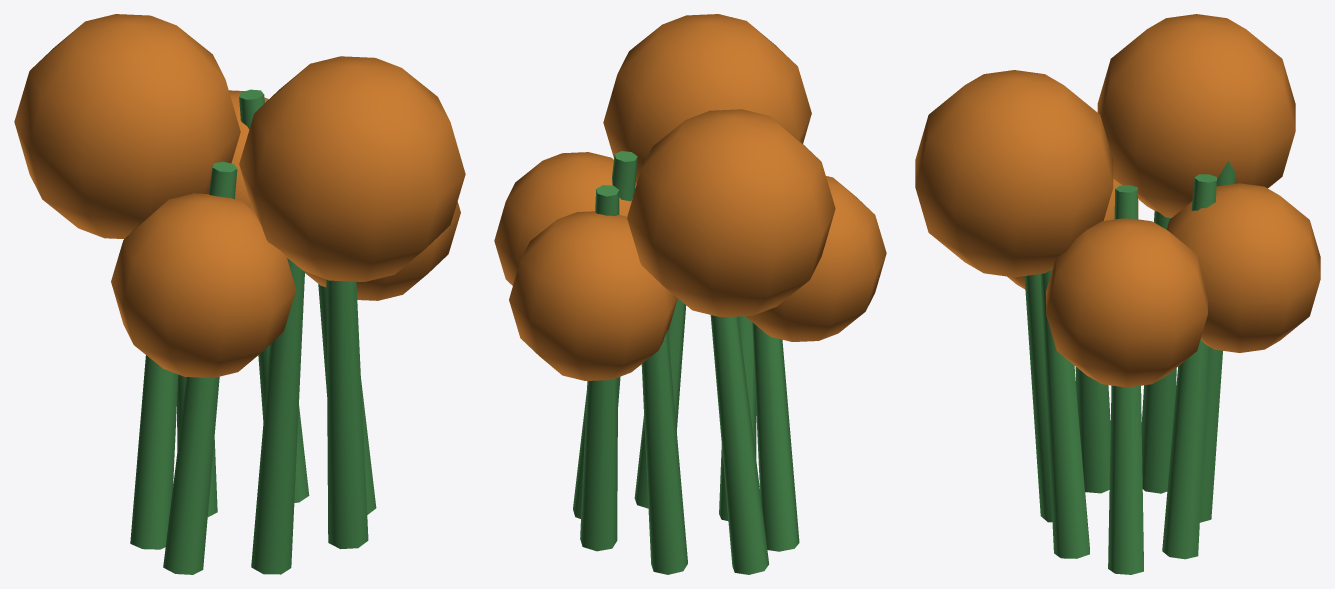
File: crop_carrot_mature.glb
3 views of the same model, side by side, from view 1: azimuth 30°, elevation 25°; view 2: azimuth 150°, elevation 25°; view 3: azimuth 270°, elevation 25° (orthographic). The views are drawn at different scales.
Visible parts, largest first — view 1: produce_1, produce_3, produce_2, stem_2, stem_1, stem_3, stem_4, produce_0, stem_6, stem_0, produce_4, stem_5; view 2: produce_3, produce_4, produce_1, produce_2, stem_4, produce_0, stem_5, stem_3, stem_6, stem_1, stem_0, stem_2; view 3: produce_1, produce_3, produce_0, produce_4, stem_6, stem_1, stem_0, stem_4, stem_2, stem_3, stem_5.
Boxes of the visible parts, <box> form: produce_1: <box>239,56,465,281</box>; produce_3: <box>14,14,240,238</box>; produce_2: <box>111,193,296,378</box>; stem_2: <box>251,258,304,574</box>; stem_1: <box>326,279,368,549</box>; stem_3: <box>163,161,237,574</box>; stem_4: <box>130,355,178,549</box>; produce_0: <box>305,201,460,300</box>; stem_6: <box>239,89,309,502</box>; stem_0: <box>318,284,376,514</box>; produce_4: <box>229,90,268,208</box>; stem_5: <box>177,374,217,516</box>; produce_3: <box>627,109,835,317</box>; produce_4: <box>509,211,677,380</box>; produce_1: <box>603,14,811,183</box>; produce_2: <box>745,176,886,341</box>; stem_4: <box>710,315,768,574</box>; produce_0: <box>494,152,636,285</box>; stem_5: <box>641,329,687,574</box>; stem_3: <box>752,322,799,551</box>; stem_6: <box>580,185,619,551</box>; stem_1: <box>634,298,686,508</box>; stem_0: <box>573,151,637,518</box>; stem_2: <box>719,316,756,520</box>; produce_1: <box>915,70,1113,277</box>; produce_3: <box>1097,14,1295,217</box>; produce_0: <box>1046,218,1207,387</box>; produce_4: <box>1166,183,1320,352</box>; stem_6: <box>1162,174,1216,559</box>; stem_1: <box>1040,269,1089,558</box>; stem_0: <box>1108,185,1143,574</box>; stem_4: <box>1141,210,1176,493</box>; stem_2: <box>1024,274,1052,522</box>; stem_3: <box>1075,367,1110,493</box>; stem_5: <box>1200,161,1235,522</box>.
Size of what is drawn, in the model's own units: 0.8523 by 1.08 by 0.856.
